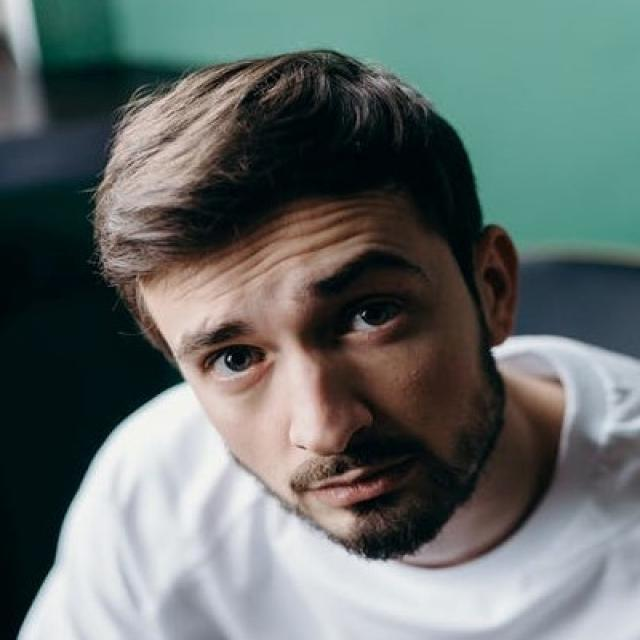Wrinkles: (180, 203, 393, 280), (209, 228, 385, 299), (183, 233, 283, 297), (275, 212, 372, 239), (242, 249, 278, 271), (349, 240, 413, 251)
